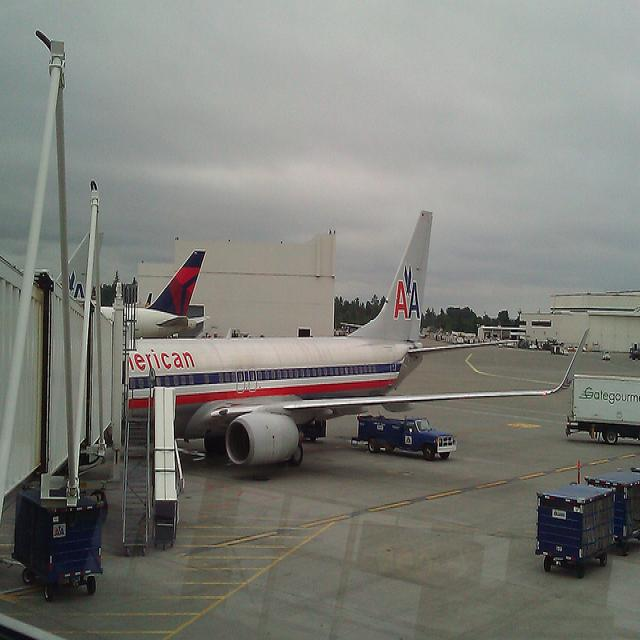airplane: (125, 208, 592, 473), (98, 246, 214, 336)
